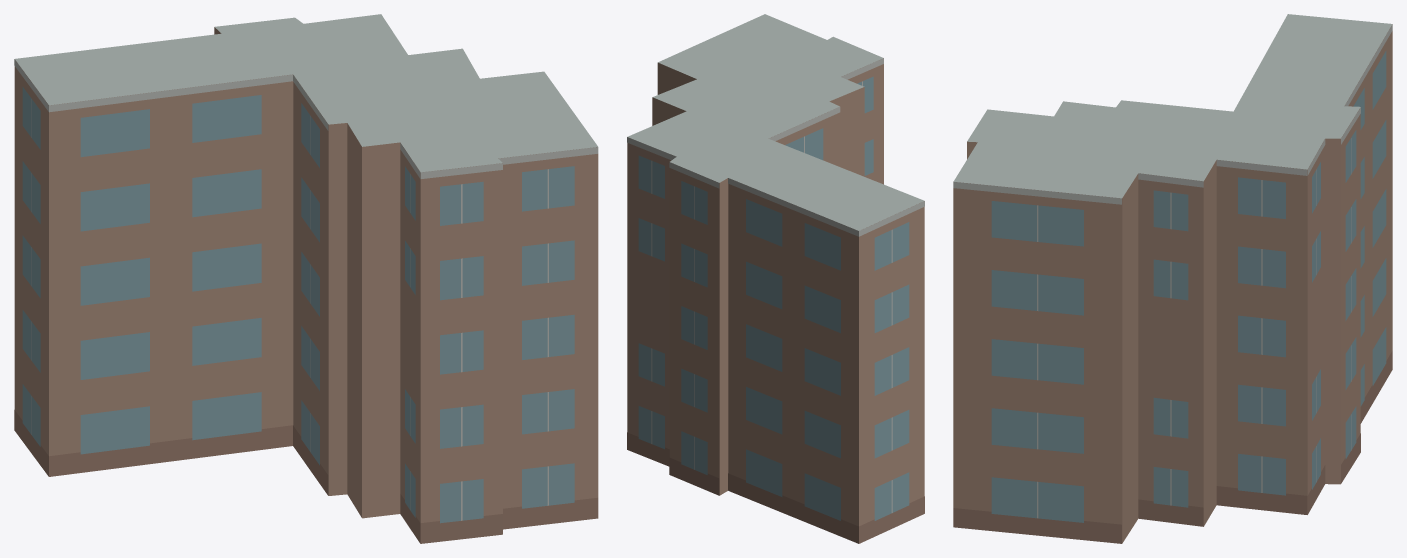
Rendered from survey-upis-32733135.glb.
3 views of the same model, side by side, from view 1: azimuth 30°, elevation 25°; view 2: azimuth 150°, elevation 25°; view 3: azimuth 270°, elevation 25° (orthographic). The views are drawn at different scales.
Parts seen in each view (by area): view 1: survey-upis-32733135.tmp; view 2: survey-upis-32733135.tmp; view 3: survey-upis-32733135.tmp.
Boxes of the visible parts, left/top/right/bottom form: survey-upis-32733135.tmp: left=14, top=14, right=598, bottom=543; survey-upis-32733135.tmp: left=627, top=14, right=924, bottom=543; survey-upis-32733135.tmp: left=953, top=14, right=1392, bottom=543.
Bounding box in the file's own units: 15.11 × 13.2 × 15.22.
